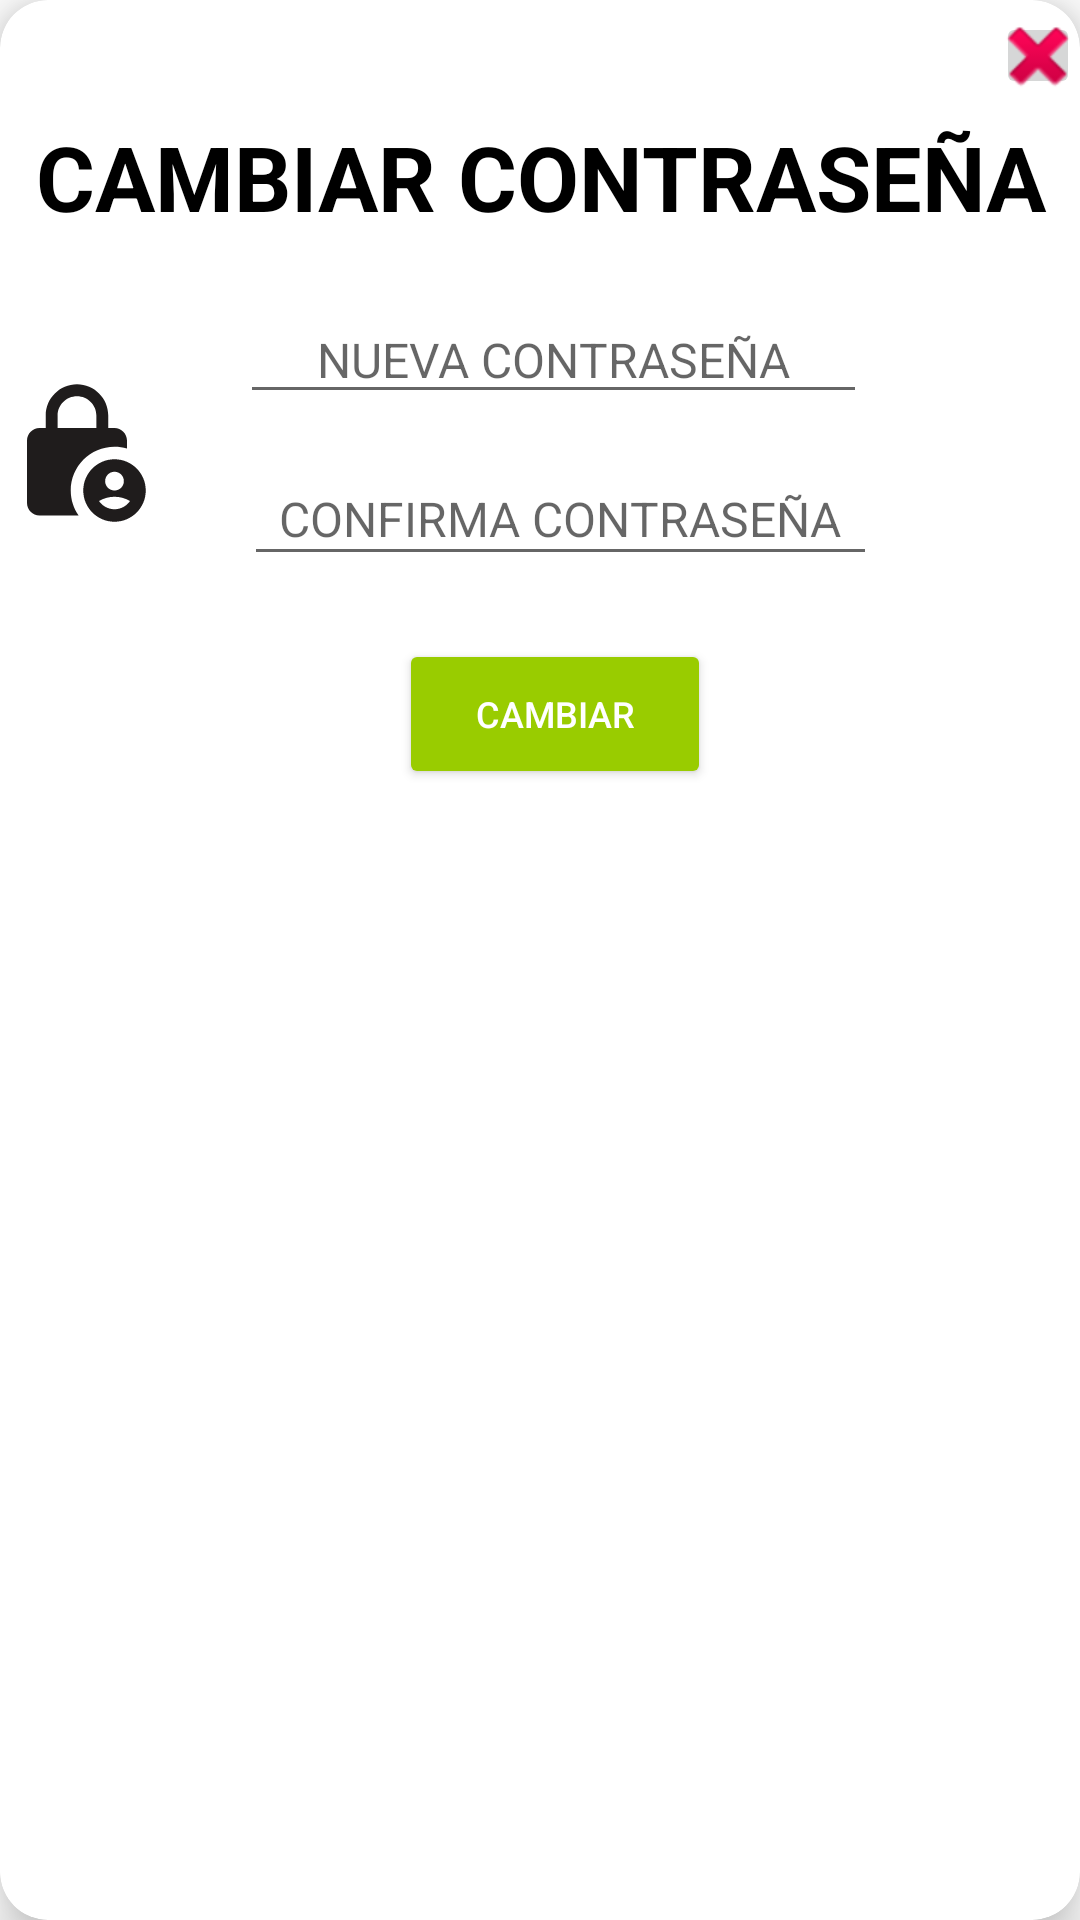

Screen size 1080px×1920px. Icon name, then its box in pixels as (left=x1, top=y1, right=x2, bottom=y2):
delete: (left=1007, top=27, right=1069, bottom=86)
lock person: (left=27, top=384, right=146, bottom=522)
